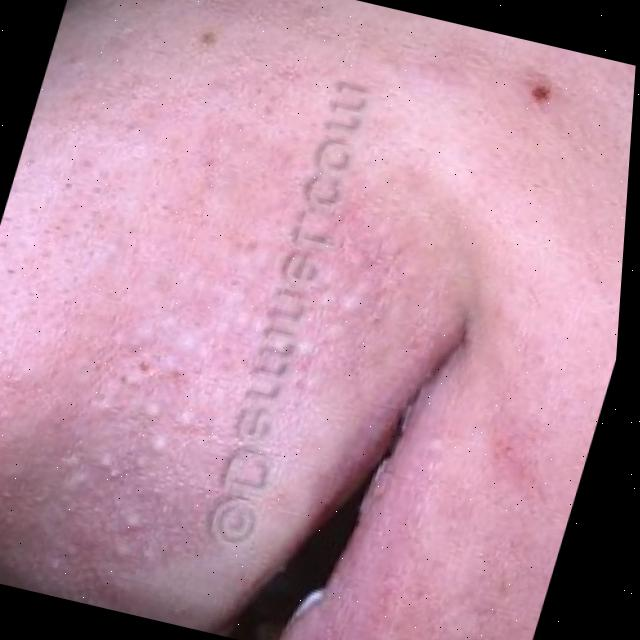Acne: (0, 147, 411, 634)
